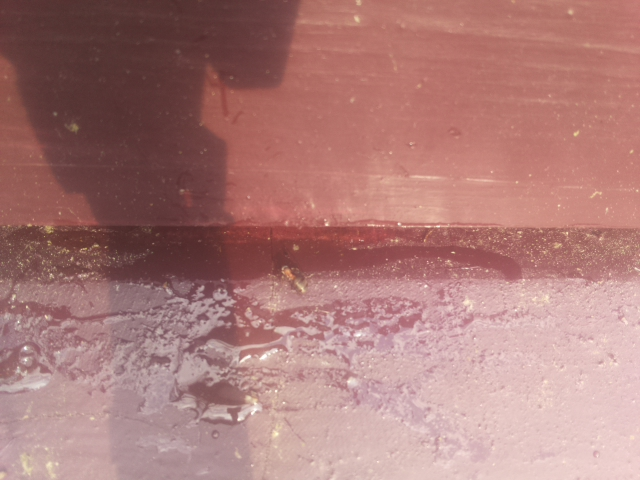ant: (0, 339, 56, 388), (277, 258, 307, 300)
